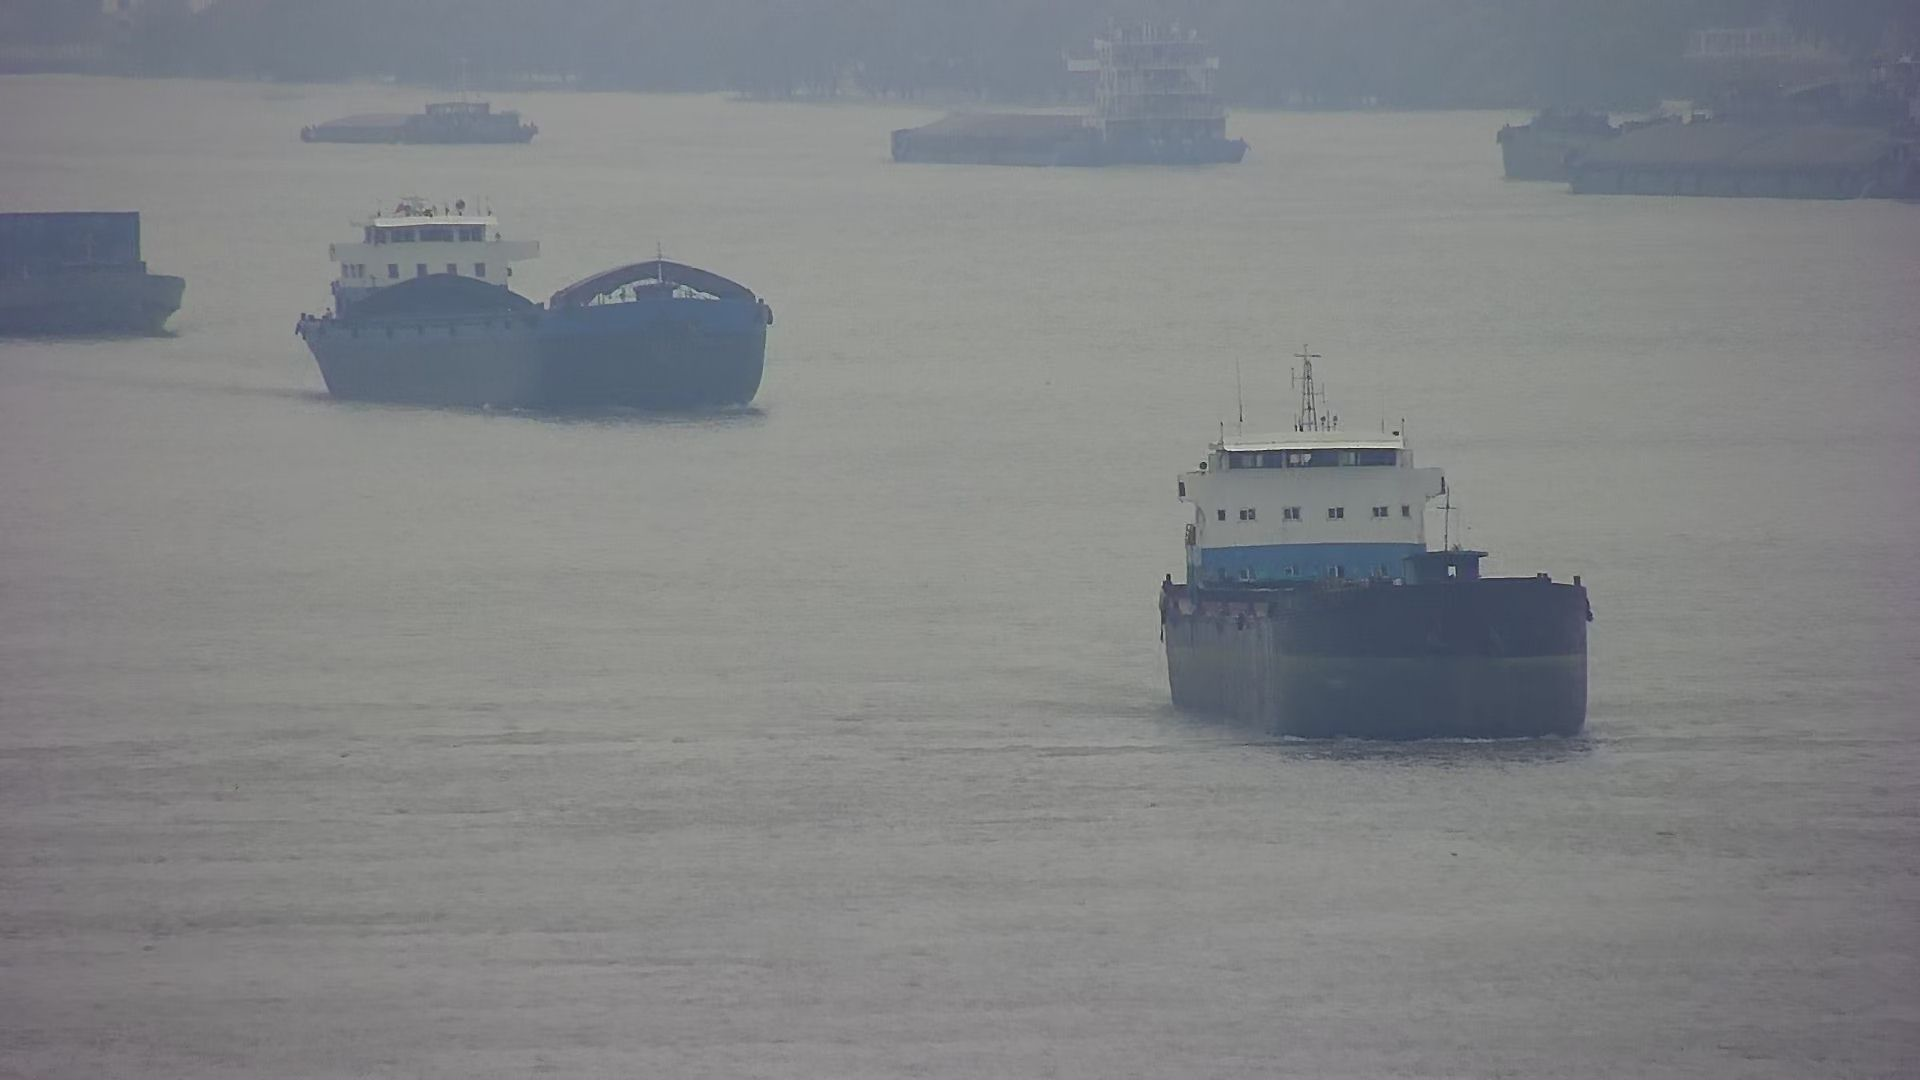ship: (1162, 356, 1590, 742), (301, 196, 766, 413), (1487, 22, 1920, 200), (894, 33, 1250, 165), (1, 215, 189, 335), (295, 100, 545, 146)
